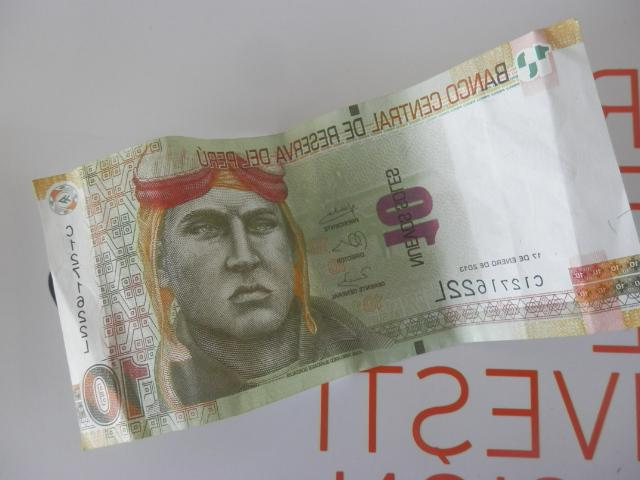B10: (32, 18, 639, 451)
